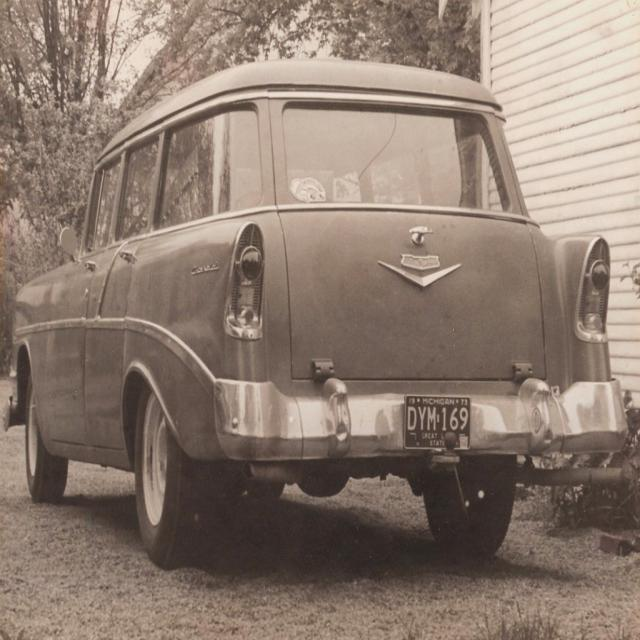car: (4, 56, 629, 573)
